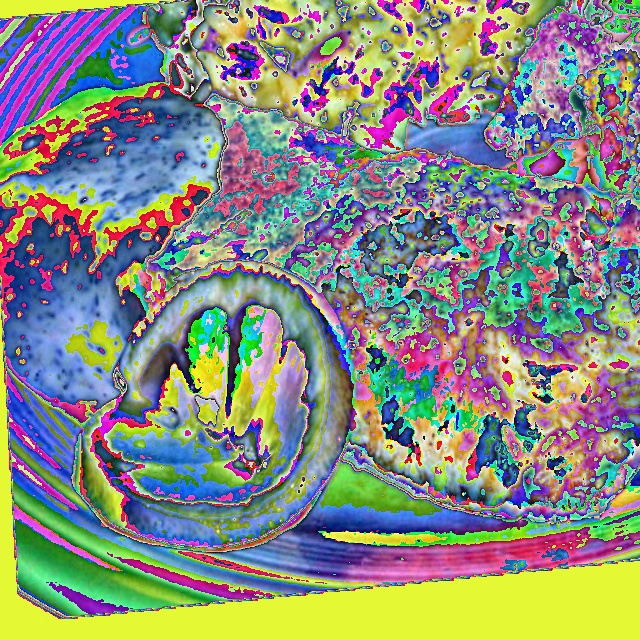background: (0, 0, 640, 554)
